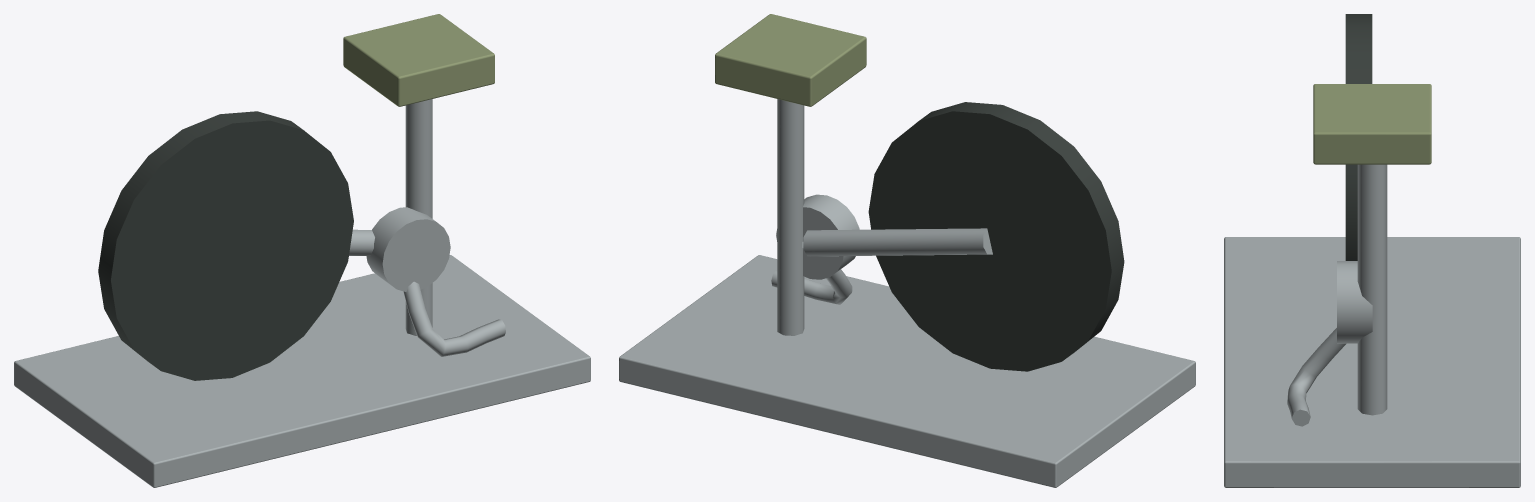
File: off-grid-power-and-controls-pedal-generator-f6ab69cc__2955.glb
3 views of the same model, side by side, from view 1: azimuth 30°, elevation 25°; view 2: azimuth 150°, elevation 25°; view 3: azimuth 270°, elevation 25° (orthographic). The views are drawn at different scales.
Visible parts, largest first — view 1: pedal-generator; view 2: pedal-generator; view 3: pedal-generator.
Boxes of the visible parts, bbox=[...] form: pedal-generator: bbox=[14, 14, 590, 487]; pedal-generator: bbox=[619, 14, 1195, 487]; pedal-generator: bbox=[1224, 14, 1520, 487].
Bounding box in the file's own units: 0.9 × 0.61 × 0.5001.
